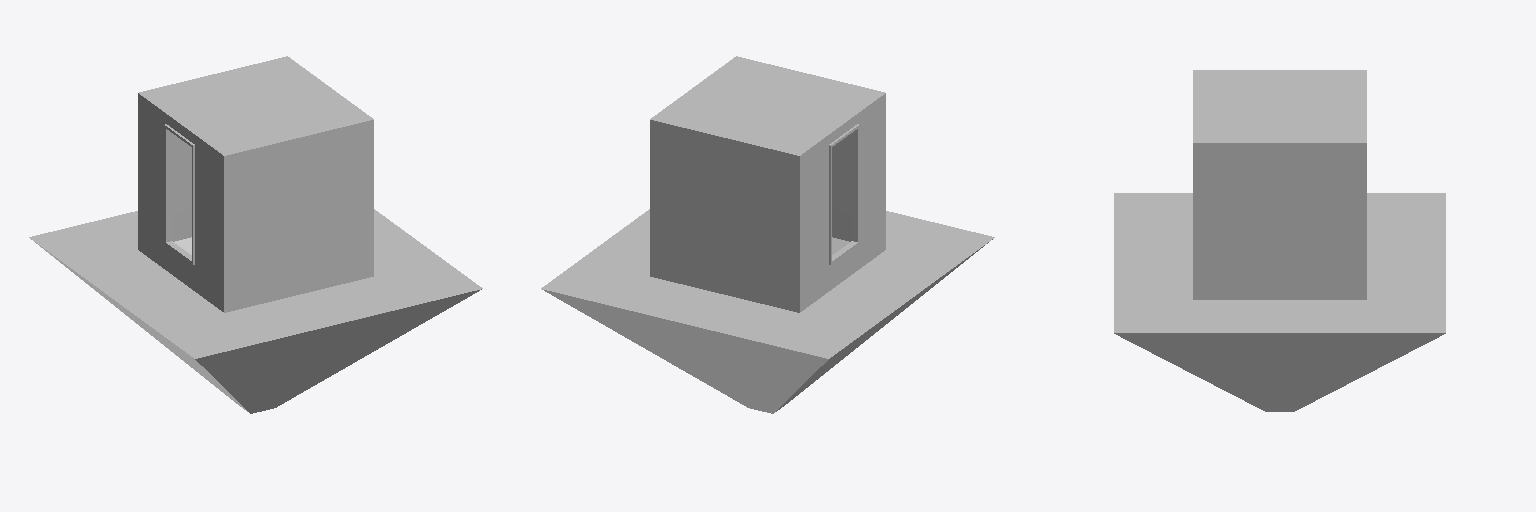
Rendered from House.obj.
The picture shows the model from 3 angles: view 1: azimuth 30°, elevation 25°; view 2: azimuth 150°, elevation 25°; view 3: azimuth 270°, elevation 25°; orthographic projection.
Parts seen in each view (by area): view 1: Cube; view 2: Cube; view 3: Cube.
Part boxes in pixels (x1,y1,x2,y2): Cube: (29, 56, 482, 413); Cube: (541, 56, 994, 413); Cube: (1114, 70, 1445, 411).
Bounding box in the file's own units: 3.84 × 3.82 × 3.84.